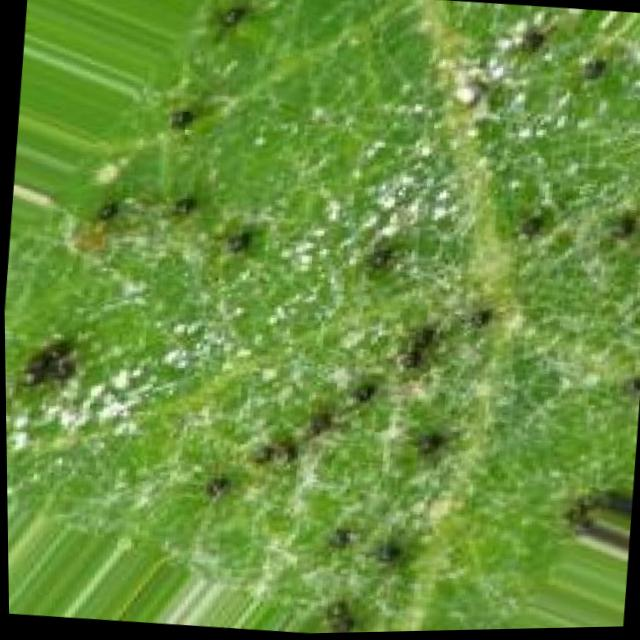Bad: (91, 0, 521, 632)
